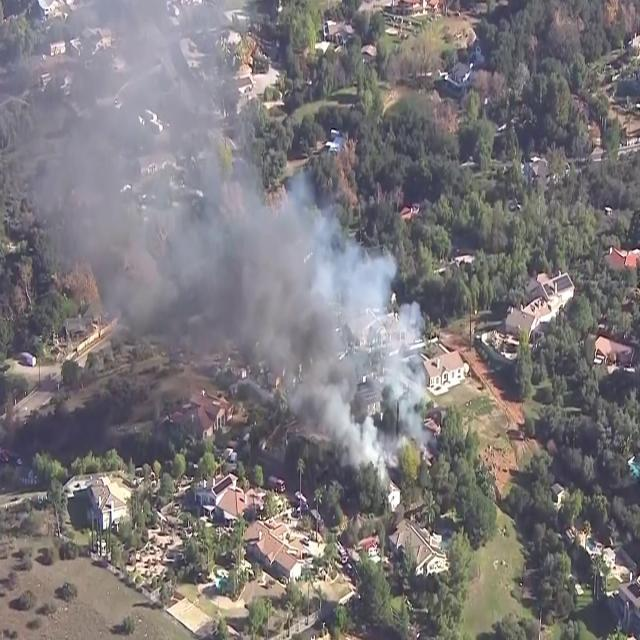Smoke: (1, 0, 291, 364), (233, 184, 443, 488)
